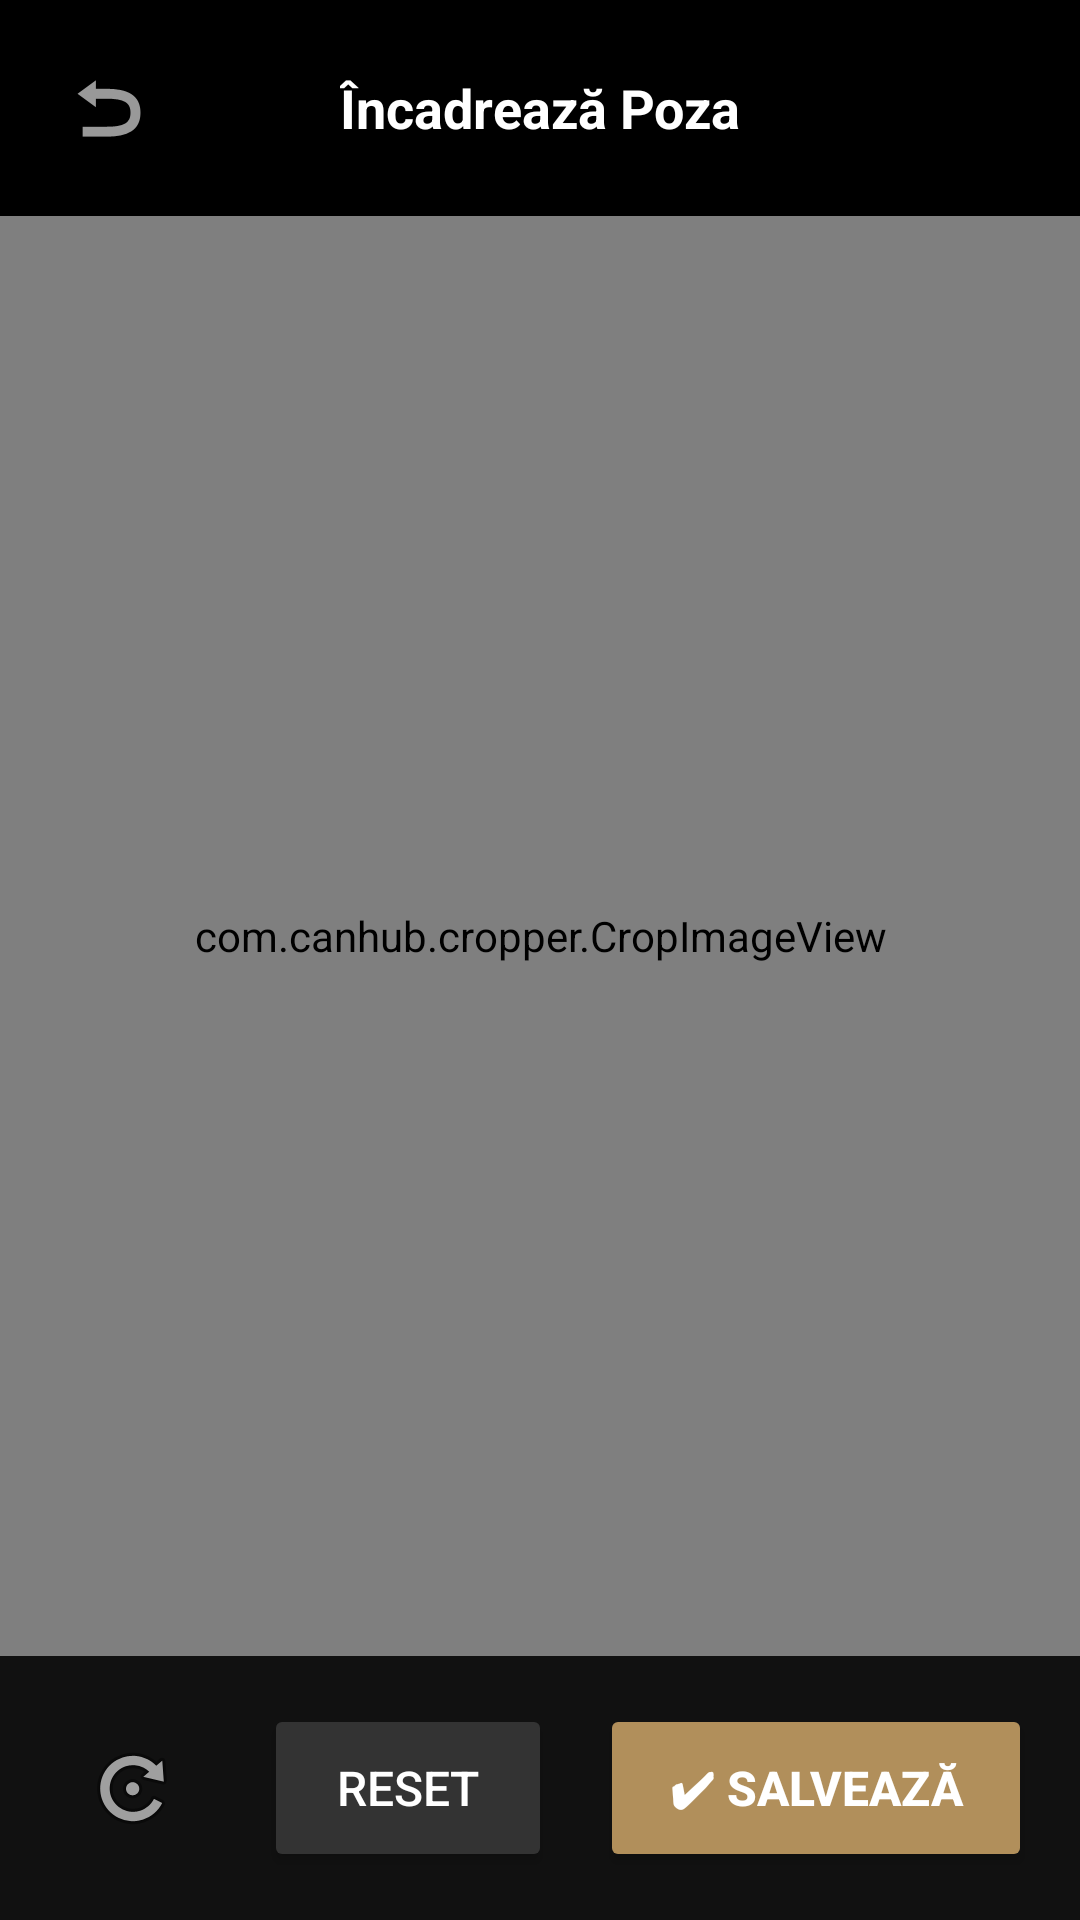

Icons on this 1080×1920 Android screen, each with the point to tap as [x,y]:
revert: [109,108]
rotate: [132,1788]
